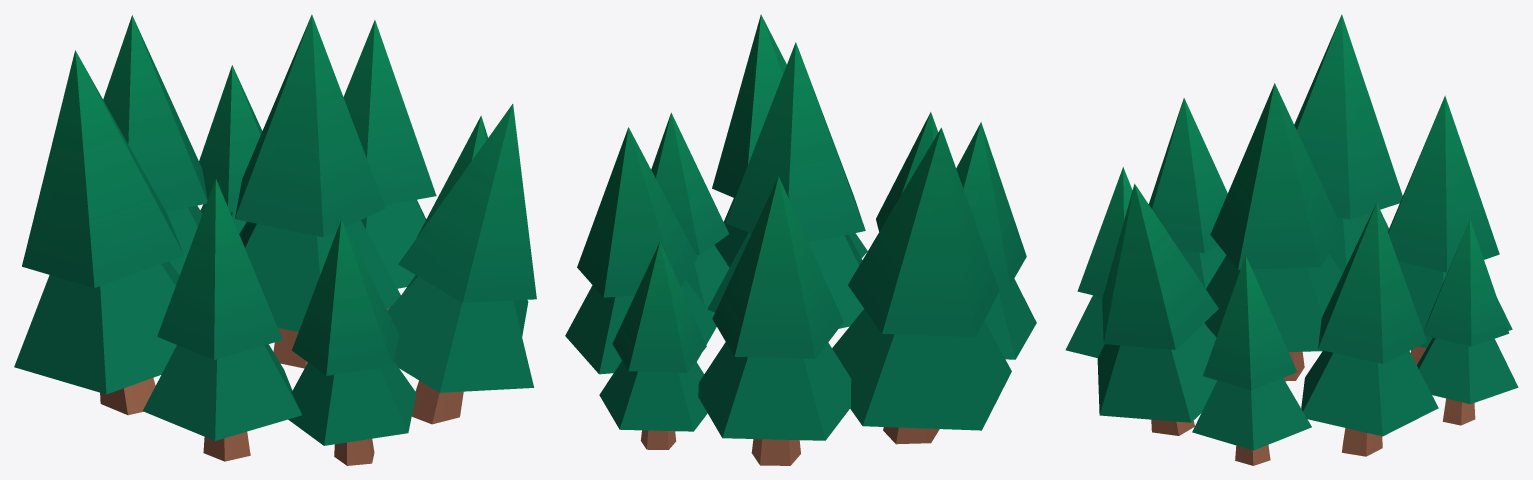
Rendered from trees_a_small.glb.
3 views of the same model, side by side, from view 1: azimuth 30°, elevation 25°; view 2: azimuth 150°, elevation 25°; view 3: azimuth 270°, elevation 25° (orthographic). The views are drawn at different scales.
Visible parts, largest first — view 1: trees_A_small; view 2: trees_A_small; view 3: trees_A_small.
Part boxes in pixels (bbox=[...]): trees_A_small: bbox=[14, 14, 536, 465]; trees_A_small: bbox=[565, 14, 1036, 465]; trees_A_small: bbox=[1065, 14, 1518, 465].
Bounding box in the file's own units: 1.43 × 1.11 × 1.44.
Materials: 1 (1 with a texture image).
